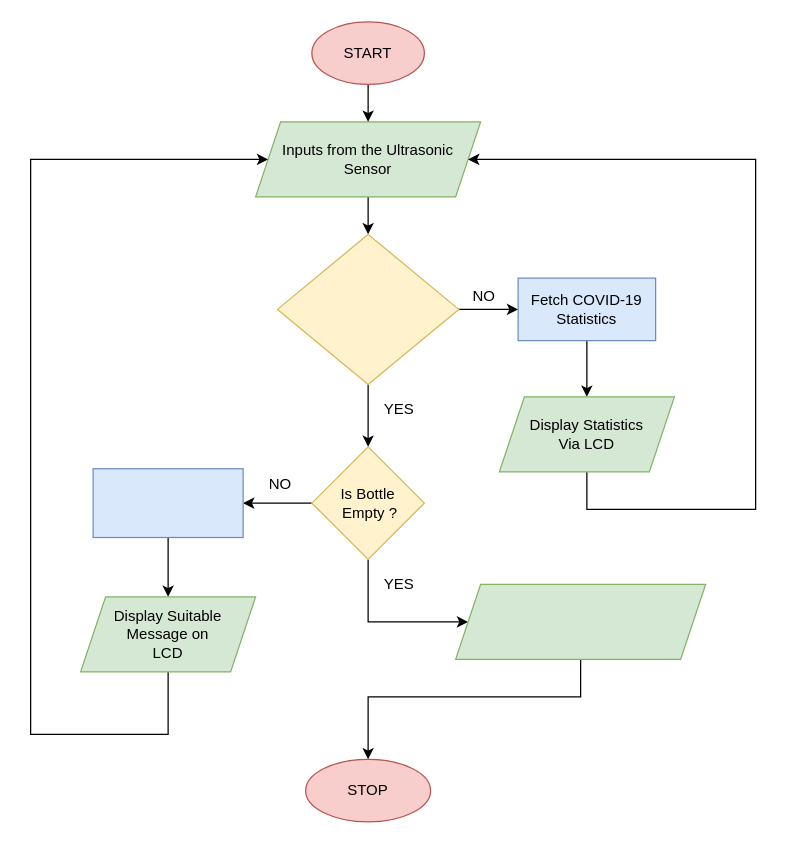
The diagram is 788 pixels wide and 844 high, and some of its shapes have lost their labels. Each missing label, with the centre of its shape:
Activate Servo Motor: point 167,503
Display Message to Notify User that bottle is empty via LCD: point 580,621
Distance of Object in intended range ?: point 367,308
